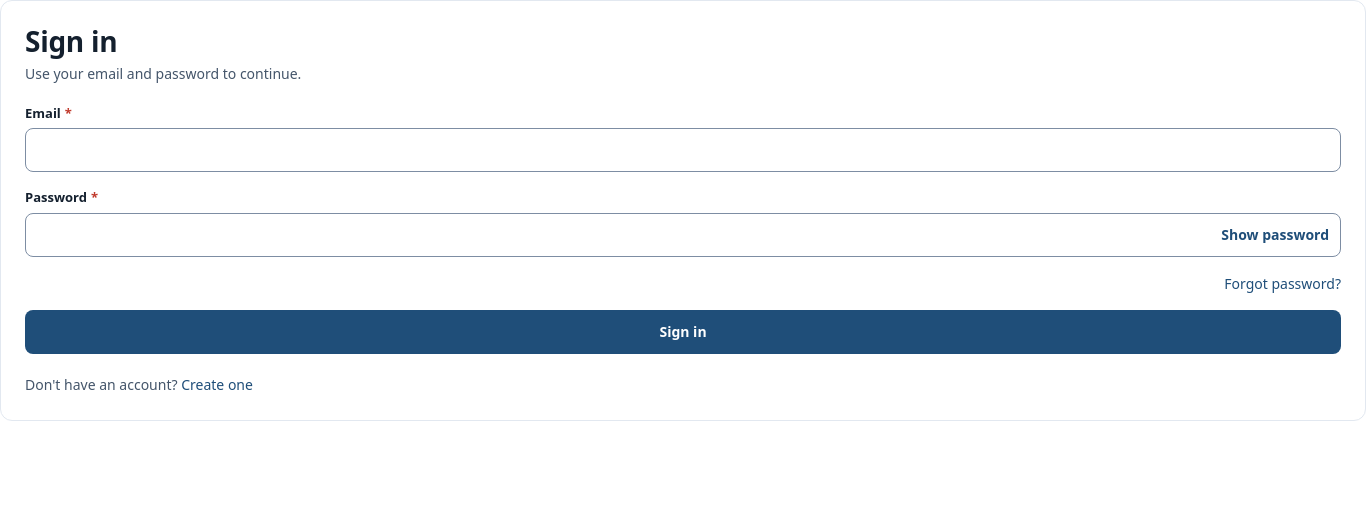
it: SignInForm › shows the localised invalid-credentials message on a 400 (L-B2)
The image size is (1366, 510).
Type "cand@example.com" into the field labelled "Email*" at (683, 150), box [25,128,1341,172]
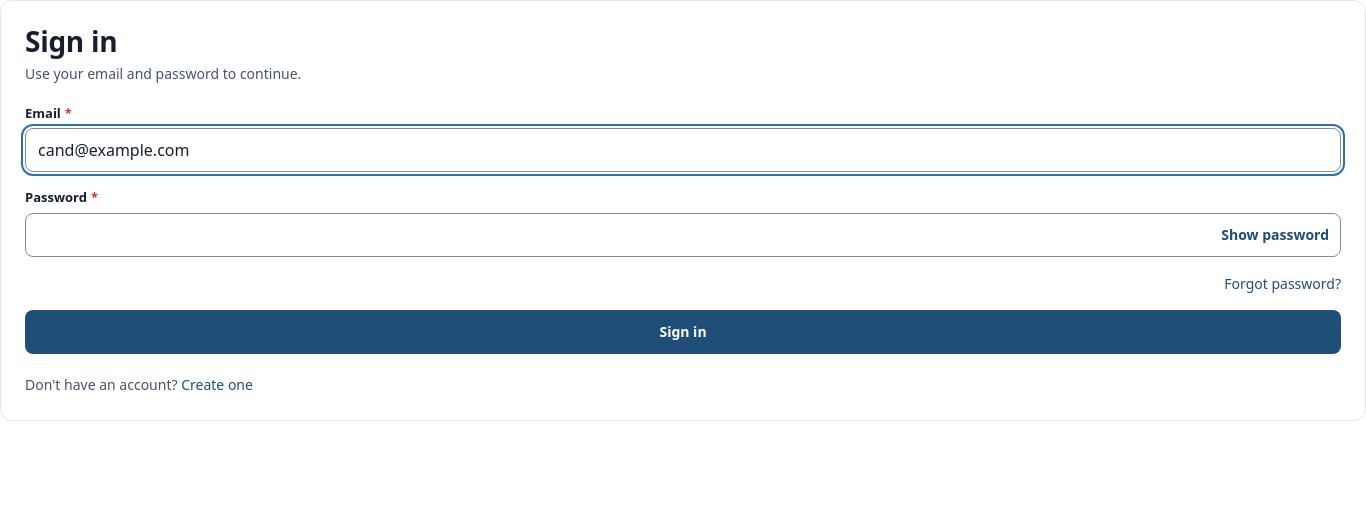
Type "wrongpassword1" into the password field labelled "Password*" at (683, 235), box [25,213,1341,257]
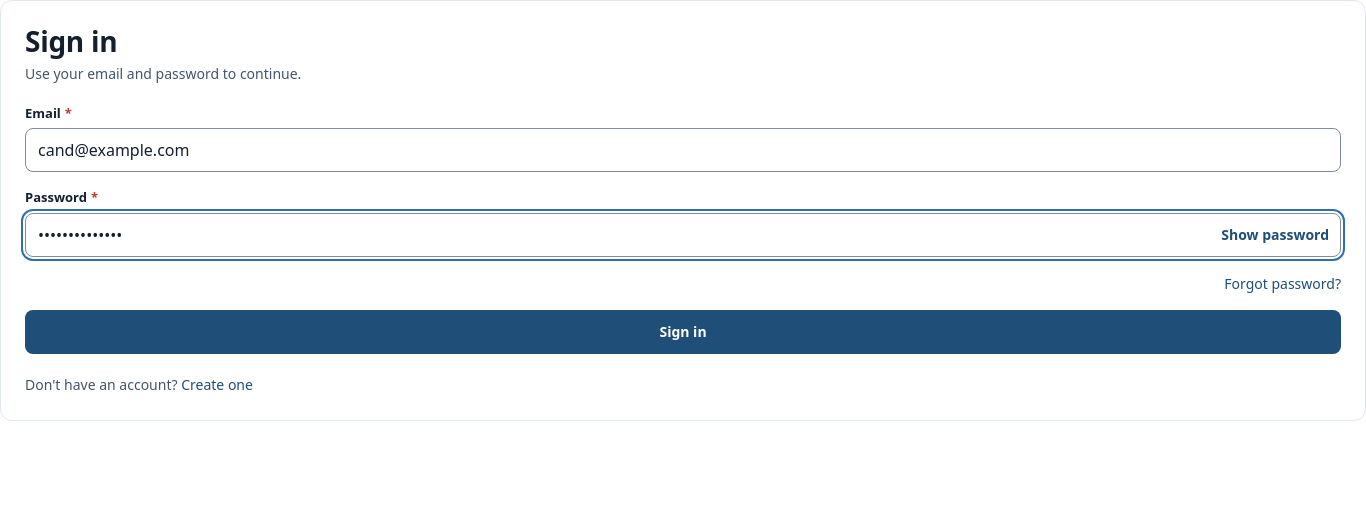
Click the button "Sign in" at (683, 332), box [25,310,1341,354]
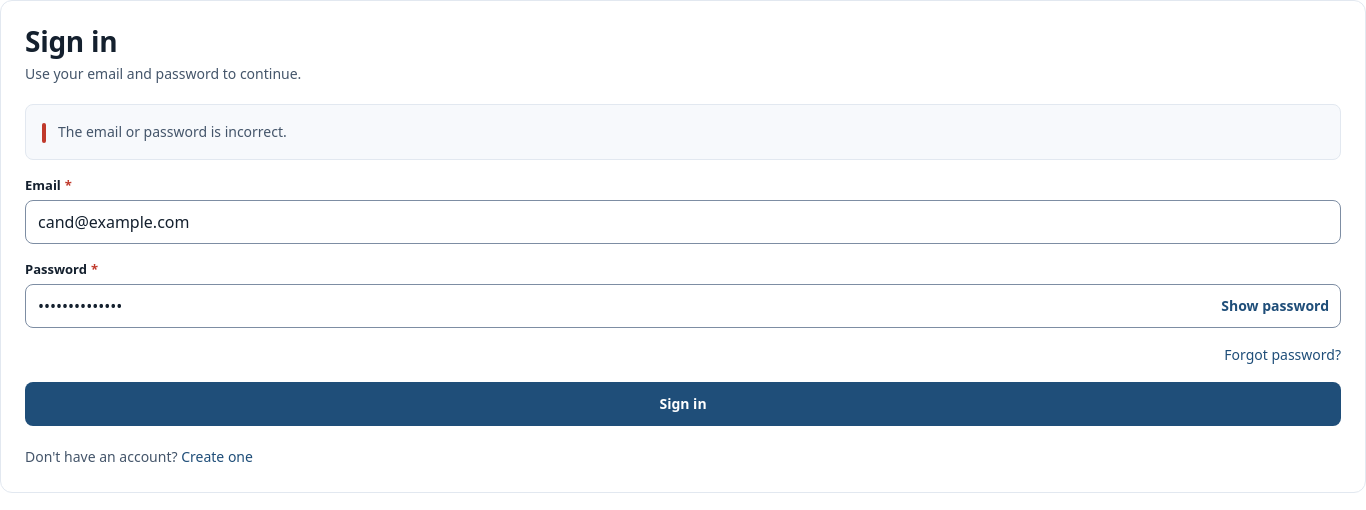
Expected: the text "The email or password is incorrect." is shown, [58,122,287,141]
